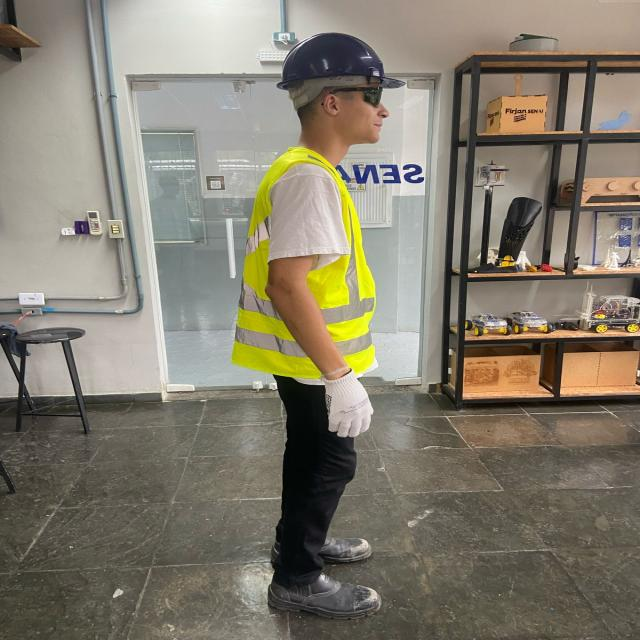BOTA: (268, 567, 383, 621), (268, 532, 378, 563)
CAPACETE: (272, 34, 405, 114)
COLETE: (235, 146, 389, 379)
LUVA: (308, 365, 381, 437)
OCULOS: (322, 87, 387, 109)
